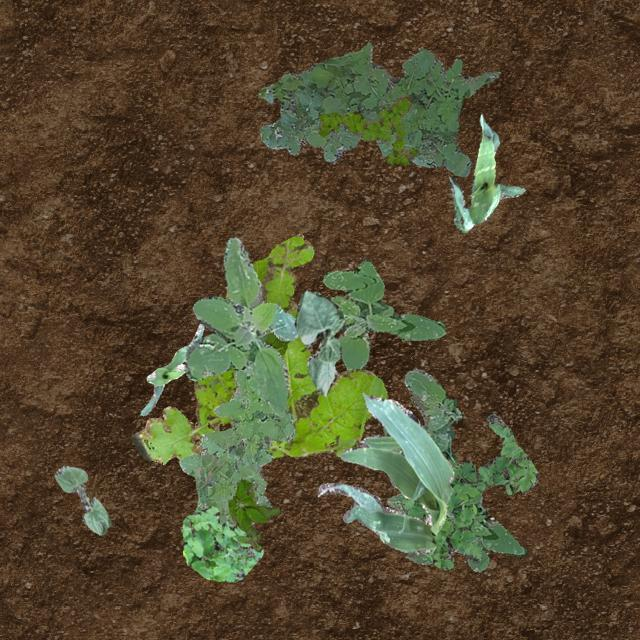crop: (316, 392, 452, 552), (448, 114, 524, 232), (140, 322, 202, 414), (294, 290, 344, 396), (54, 464, 110, 534)
weed: (130, 232, 386, 464), (257, 41, 498, 176), (386, 368, 526, 572), (400, 412, 538, 568), (184, 235, 298, 416), (178, 368, 294, 528), (322, 260, 444, 370), (316, 94, 416, 164), (180, 504, 262, 580), (228, 478, 278, 550), (262, 330, 288, 354)
